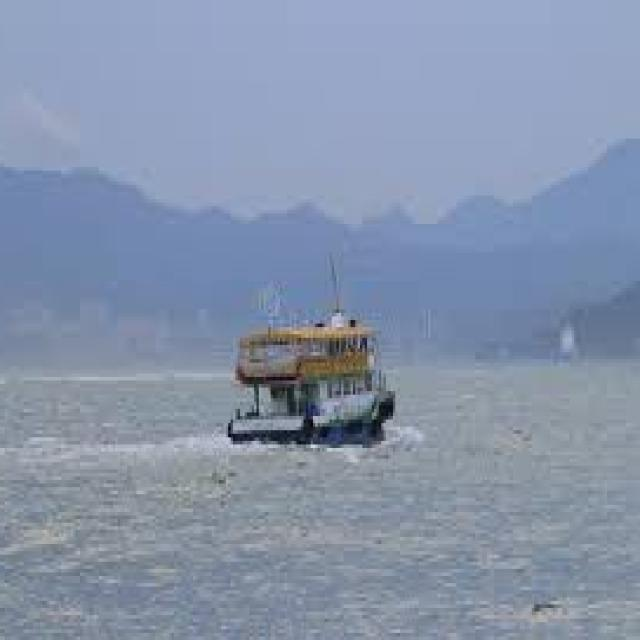passenger ship: (229, 281, 394, 457)
